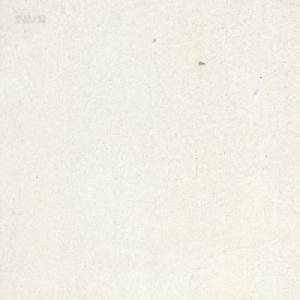Nail: (198, 59, 204, 64)
